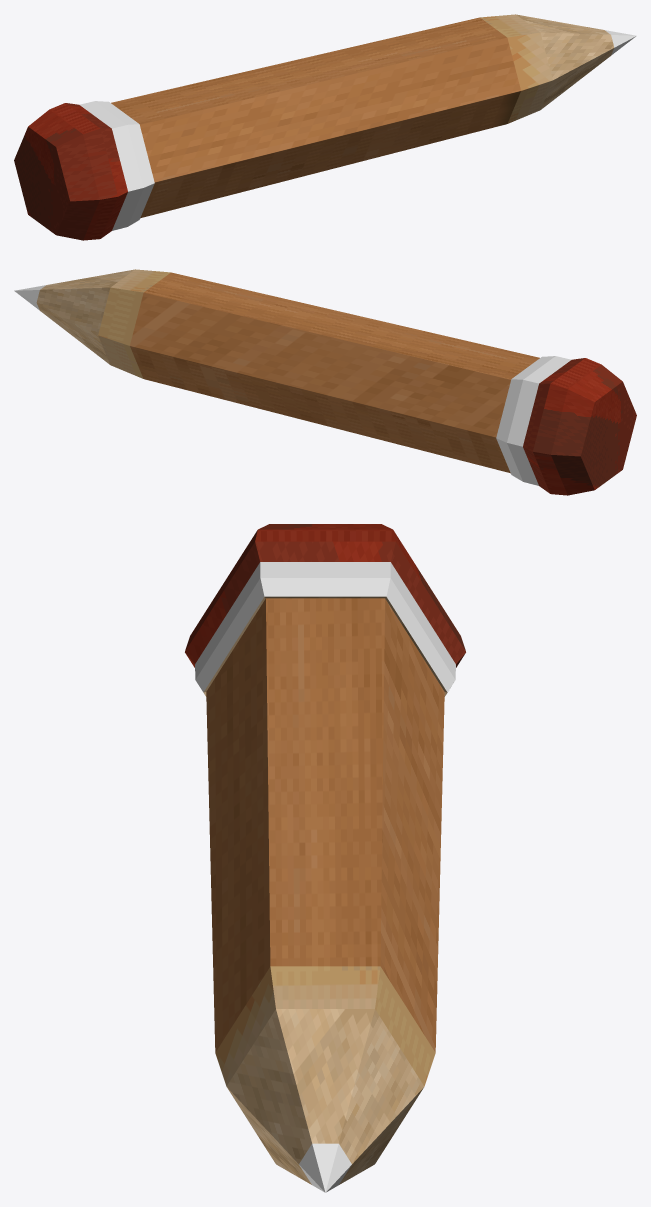
File: Matita_1.fbx
3 views of the same model, one above another, from view 1: azimuth 30°, elevation 25°; view 2: azimuth 150°, elevation 25°; view 3: azimuth 270°, elevation 25° (orthographic). The views are drawn at different scales.
Parts seen in each view (by area): view 1: Cylinder.004; view 2: Cylinder.004; view 3: Cylinder.004.
Boxes of the visible parts, x1,y1,x2,y2 form: Cylinder.004: (14, 14, 636, 240); Cylinder.004: (14, 269, 636, 495); Cylinder.004: (185, 524, 465, 1192).
Size of the model in its own units: 0.0211 by 0.00375 by 0.00433.
Materials: 6 (4 with a texture image).
